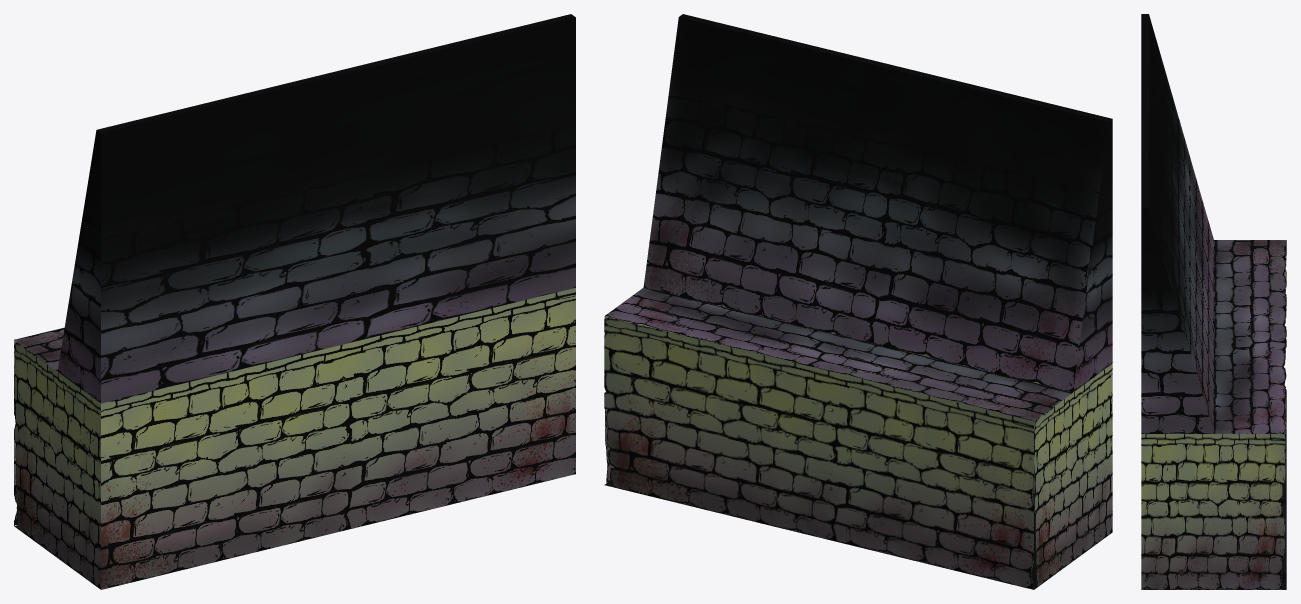
File: pARED.fbx
3 renders of one model, left to right at view 1: azimuth 30°, elevation 25°; view 2: azimuth 150°, elevation 25°; view 3: azimuth 270°, elevation 25°, orthographic. The views are drawn at different scales.
Visible parts, largest first — view 1: pAREDE; view 2: pAREDE; view 3: pAREDE.
Boxes of the visible parts, bbox=[...] form: pAREDE: bbox=[14, 14, 575, 589]; pAREDE: bbox=[604, 14, 1112, 589]; pAREDE: bbox=[1141, 14, 1286, 589].
Size of the model in its own units: 630 by 579 by 200.
